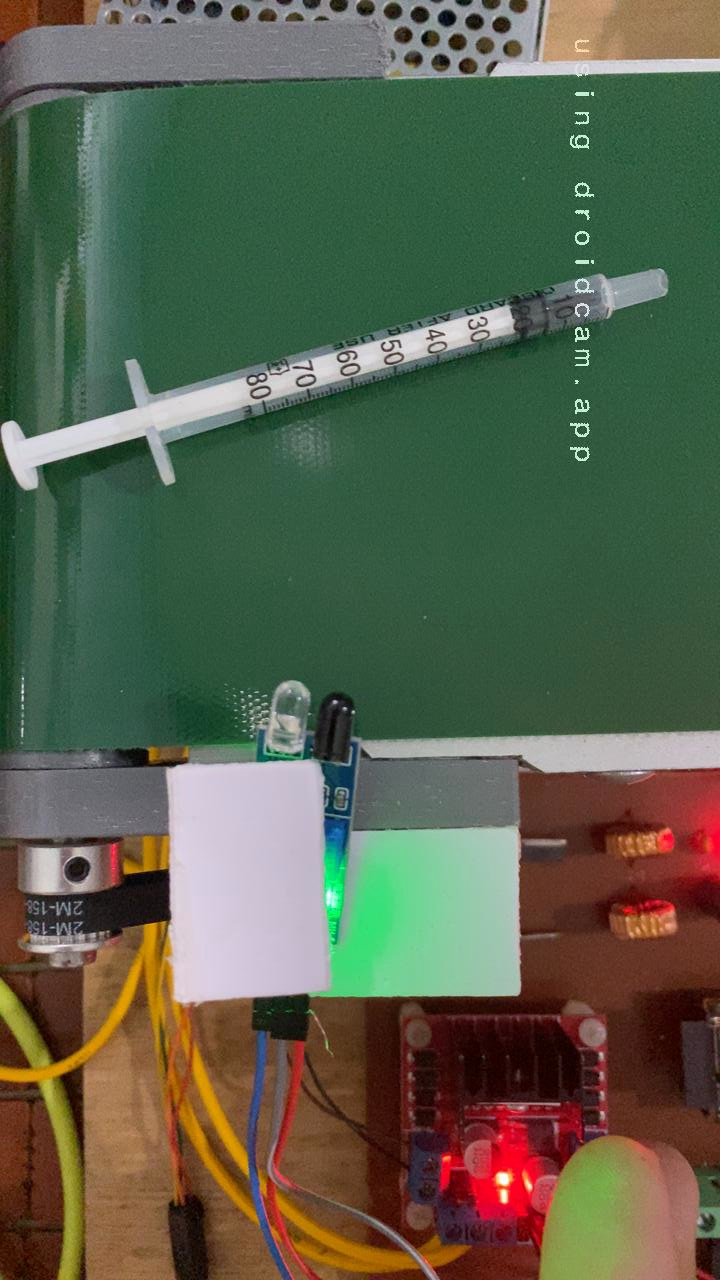syringe: (0, 263, 675, 499)
